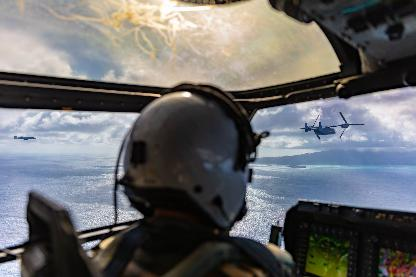A10: (14, 135, 36, 138)
Tornado: (300, 111, 364, 138)
